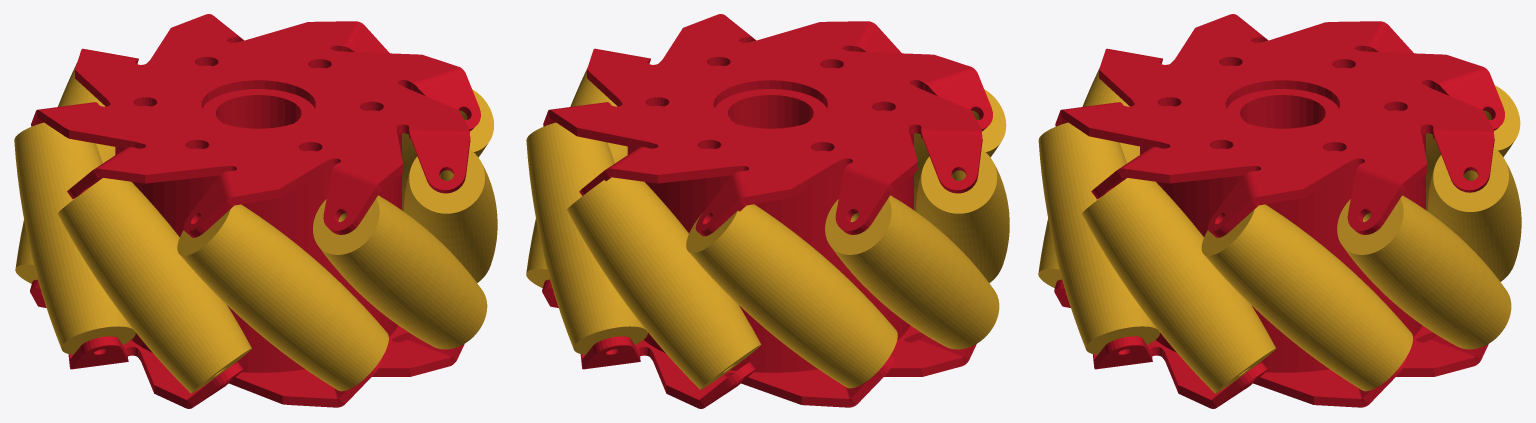
File: IronManWheelRightFront.dae
3 renders of one model, left to right at view 1: azimuth 30°, elevation 25°; view 2: azimuth 150°, elevation 25°; view 3: azimuth 270°, elevation 25°, orthographic.
Visible parts, largest first — view 1: mecanum_wheel_left.001; view 2: mecanum_wheel_left.001; view 3: mecanum_wheel_left.001.
Part boxes in pixels (x1,y1,x2,y2): mecanum_wheel_left.001: (14,14,497,408); mecanum_wheel_left.001: (526,14,1009,408); mecanum_wheel_left.001: (1038,14,1521,408).
Size of the model in its own units: 0.208 by 0.2081 by 0.1028.
